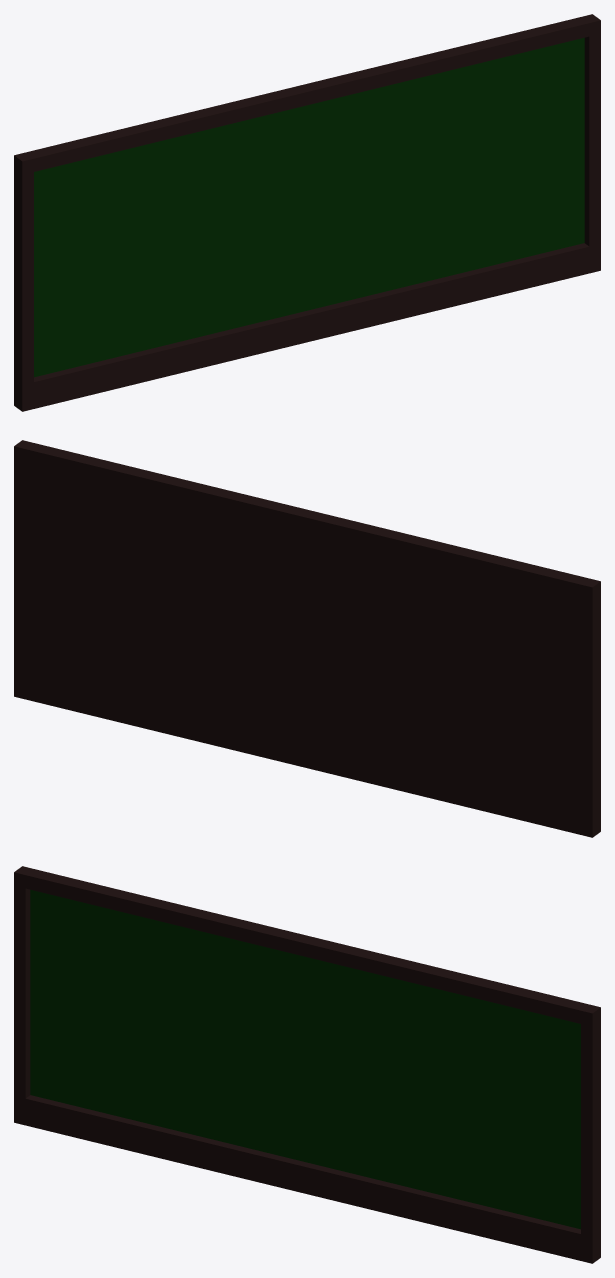
File: tahta.fbx
The picture shows the model from 3 angles, top to bottom: view 1: azimuth 30°, elevation 25°; view 2: azimuth 150°, elevation 25°; view 3: azimuth 330°, elevation 25°; orthographic projection.
Parts seen in each view (by area): view 1: tahta; view 2: tahta; view 3: tahta.
Boxes of the visible parts, box(x1,y1,x2,y2) form: tahta: box(14, 14, 600, 411); tahta: box(14, 440, 600, 837); tahta: box(14, 866, 600, 1263).
Size of the model in its own units: 16.72 by 6.92 by 0.4216.
